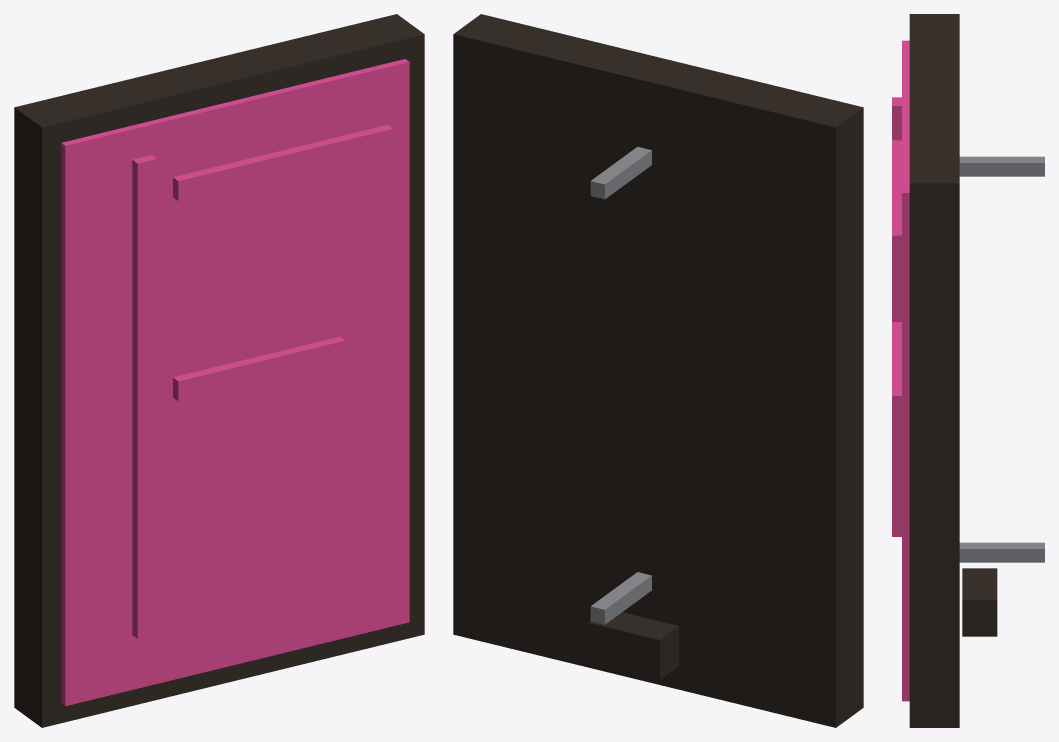
The model's file is SM_H_Neon_Sign_UH001_A.obj.
3 views of the same model, side by side, from view 1: azimuth 30°, elevation 25°; view 2: azimuth 150°, elevation 25°; view 3: azimuth 270°, elevation 25° (orthographic). The views are drawn at different scales.
Visible parts, largest first — view 1: face_panel, carcass, tube_v, tube_h_top, tube_h_mid; view 2: carcass, transformer, mount_arm_t, mount_arm_b; view 3: carcass, face_panel, transformer, tube_v, mount_arm_t, mount_arm_b, tube_h_top, tube_h_mid.
Part boxes in pixels (left/top/right/bottom): face_panel: left=61, top=59, right=409, bottom=706; carcass: left=14, top=14, right=424, bottom=727; tube_v: left=132, top=155, right=156, bottom=638; tube_h_top: left=173, top=125, right=393, bottom=201; tube_h_mid: left=173, top=336, right=345, bottom=401; carcass: left=453, top=14, right=863, bottom=727; transformer: left=588, top=612, right=679, bottom=679; mount_arm_t: left=590, top=146, right=651, bottom=199; mount_arm_b: left=590, top=572, right=651, bottom=624; carcass: left=909, top=14, right=959, bottom=727; face_panel: left=902, top=40, right=909, bottom=701; transformer: left=962, top=568, right=997, bottom=636; tube_v: left=892, top=97, right=901, bottom=536; mount_arm_t: left=959, top=156, right=1044, bottom=176; mount_arm_b: left=959, top=542, right=1044, bottom=562; tube_h_top: left=892, top=140, right=901, bottom=253; tube_h_mid: left=892, top=322, right=901, bottom=414.
Size of the model in its own units: 1.6 by 2.4 by 0.61.
